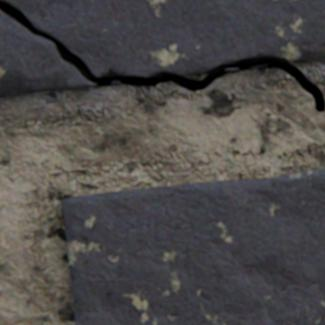brick: (64, 167, 324, 324)
broken_brick: (2, 0, 324, 77), (0, 9, 97, 97), (254, 65, 267, 68), (226, 69, 238, 71)
crack: (0, 0, 324, 112)
